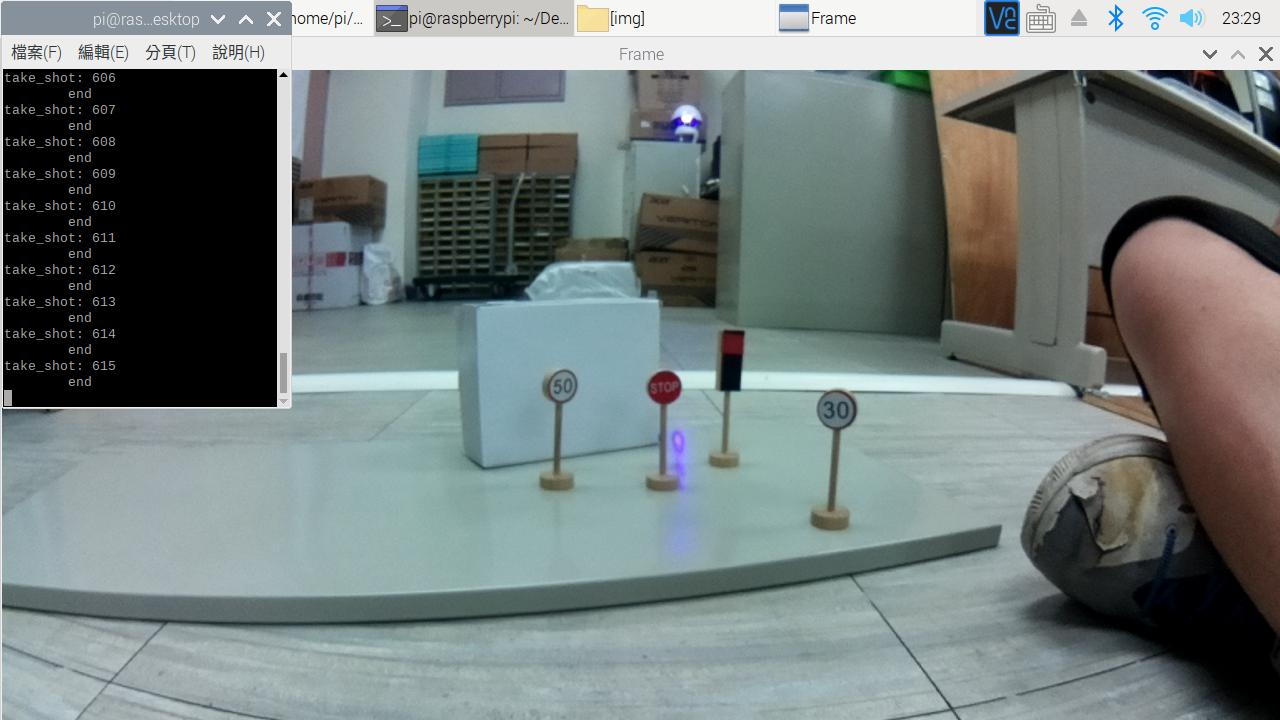Red: (708, 318, 750, 398)
Speed30: (811, 382, 870, 438)
Speed50: (539, 368, 578, 412)
Stop: (638, 362, 685, 416)
